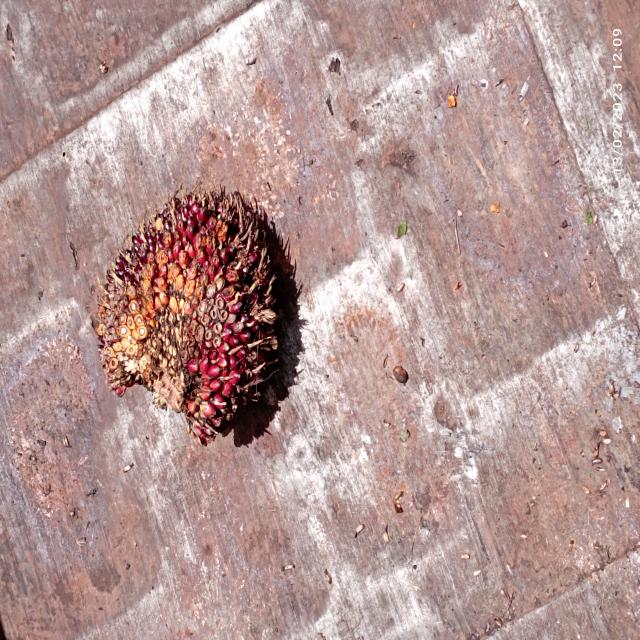fraksi 3: (84, 156, 314, 472)
